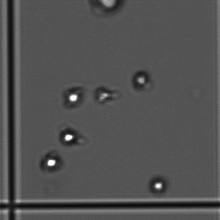Living Cell: (40, 151, 64, 172), (59, 126, 82, 147), (63, 85, 82, 109), (90, 1, 123, 14), (96, 85, 116, 104), (132, 70, 149, 91), (149, 176, 167, 194)
